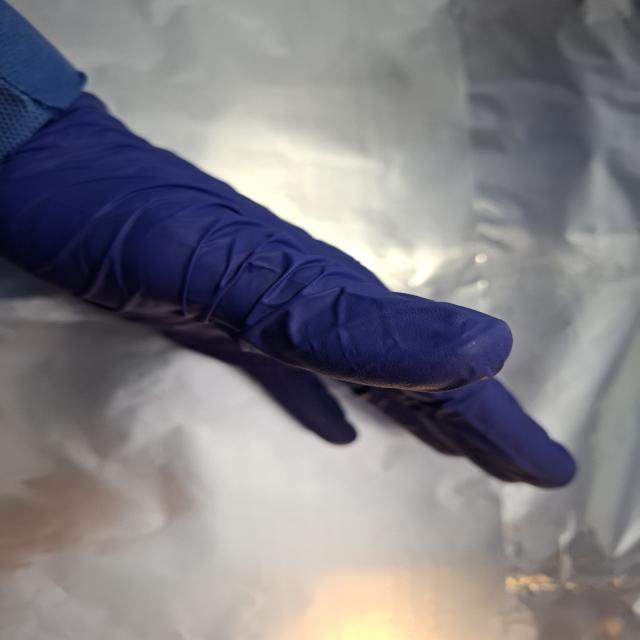glove_on: (0, 87, 583, 494)
